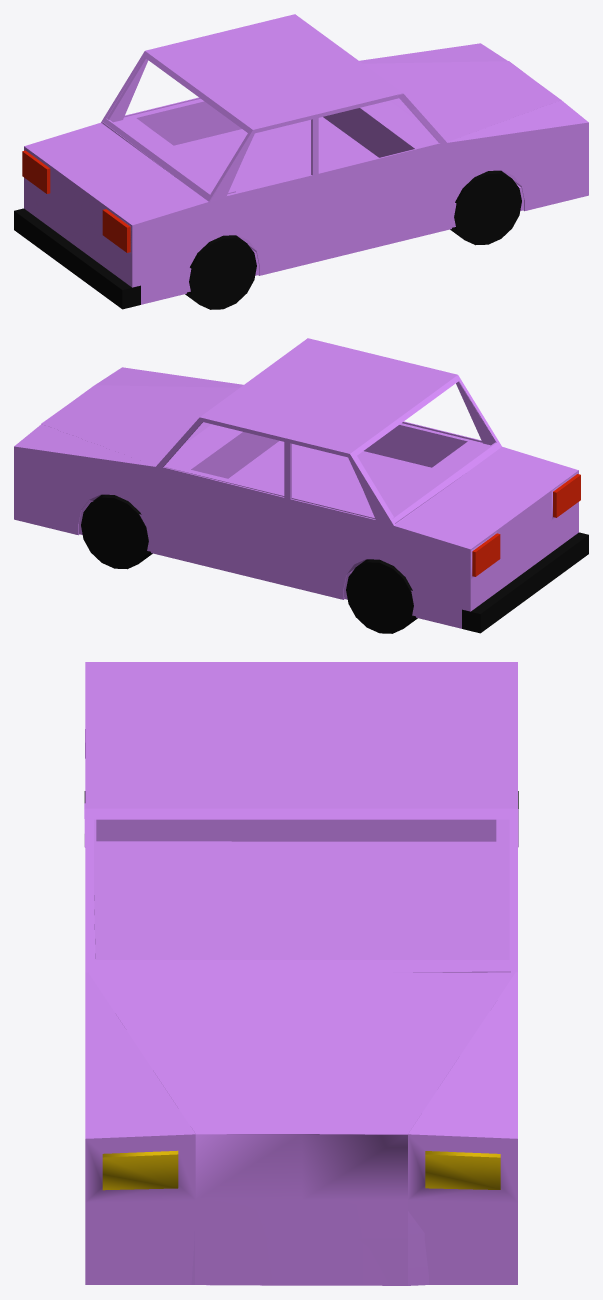
3 renders of one model, top to bottom at view 1: azimuth 30°, elevation 25°; view 2: azimuth 150°, elevation 25°; view 3: azimuth 270°, elevation 25°, orthographic. The views are drawn at different scales.
Visible parts, largest first — view 1: Vehicle_Car; view 2: Vehicle_Car; view 3: Vehicle_Car.
Part boxes in pixels (x1=…): Vehicle_Car: x1=14, y1=14, x2=588, y2=309; Vehicle_Car: x1=14, y1=338, x2=588, y2=633; Vehicle_Car: x1=84, y1=662, x2=518, y2=1285.
Bounding box in the file's own units: 628 × 220 × 251.
